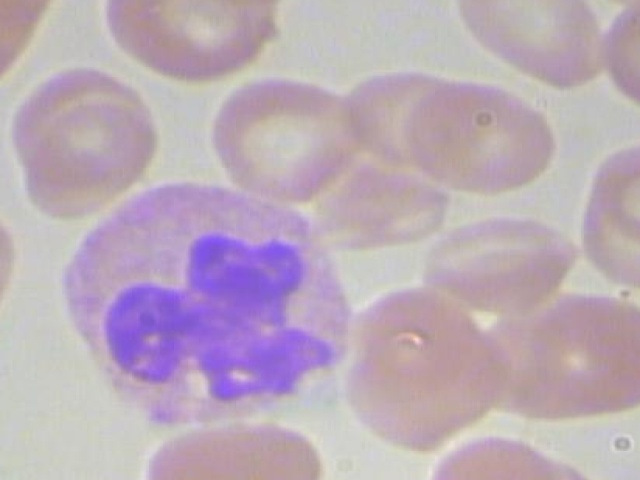RBC: (197, 73, 367, 209), (12, 93, 159, 222), (409, 78, 566, 195), (409, 211, 583, 310), (96, 0, 293, 86), (451, 0, 625, 97), (126, 418, 331, 480), (581, 140, 640, 258), (0, 193, 32, 338), (171, 0, 338, 6)
WBC: (50, 178, 366, 435)
